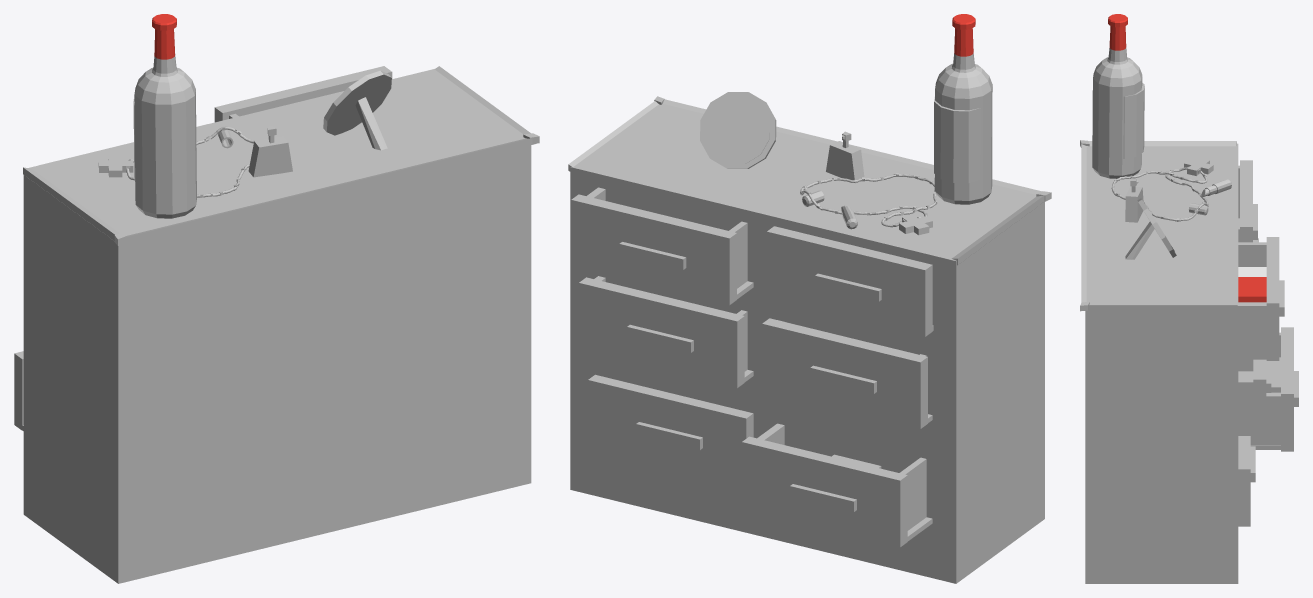
File: DrawerStand.obj
The picture shows the model from 3 angles, left to right: view 1: azimuth 30°, elevation 25°; view 2: azimuth 150°, elevation 25°; view 3: azimuth 270°, elevation 25°; orthographic projection. The views are drawn at different scales.
Bounding box in the file's own units: 3.26 × 3.95 × 1.82.
